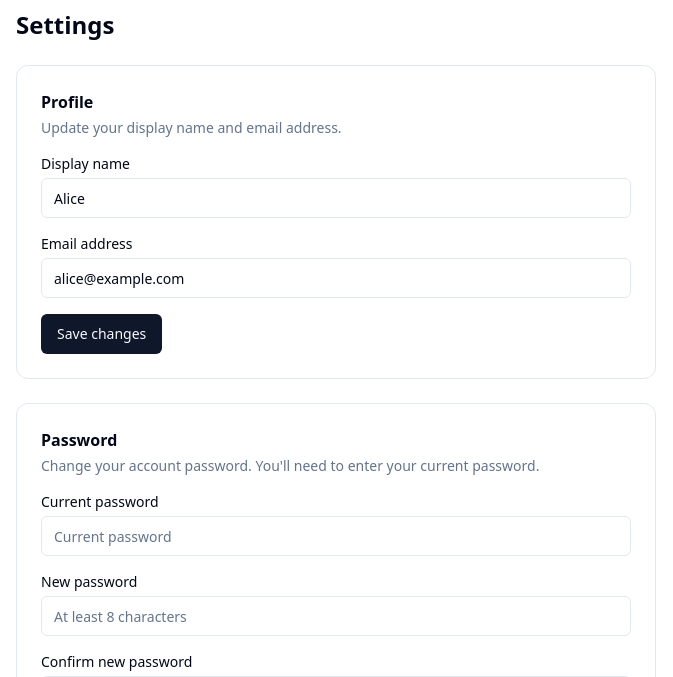
Test: SettingsPage � profile form › shows error message on API failure
Click the button "Save changes" at coordinates (102, 334), box [41,314,162,354]
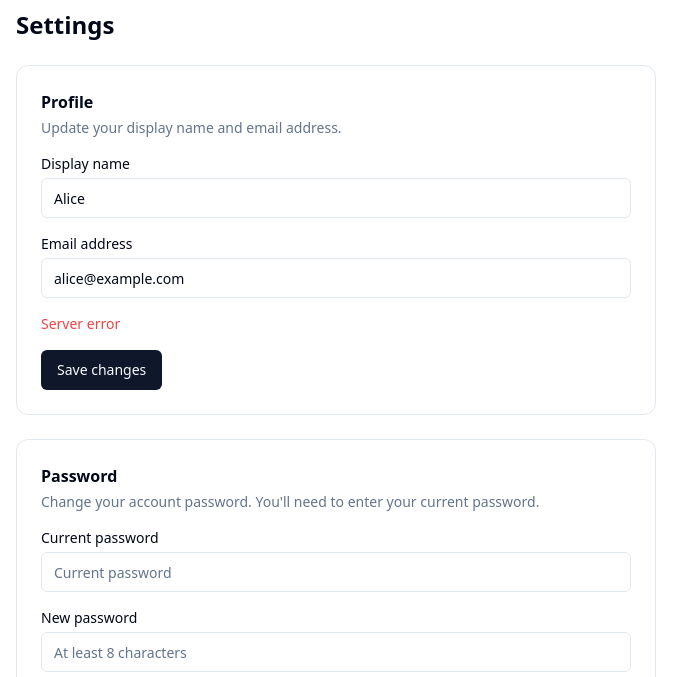
expect the text "Server error" is shown: met, box [41,314,120,333]
